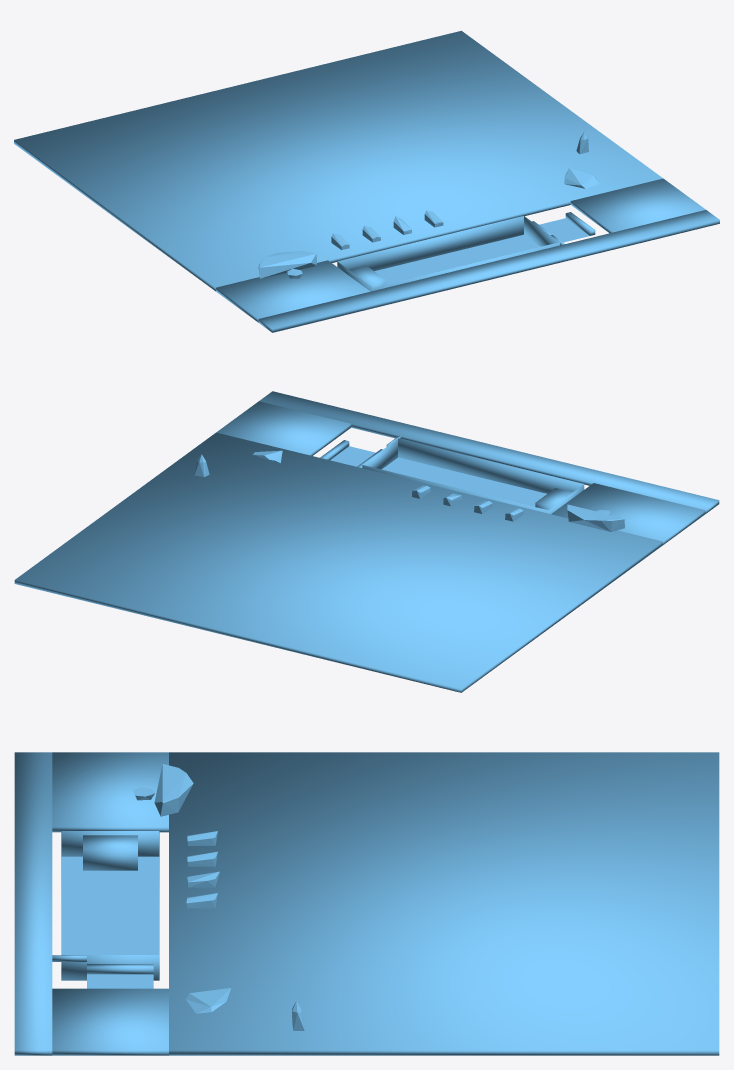
Rendered from Villa_Core_PHYS.dae.
3 renders of one model, top to bottom at view 1: azimuth 30°, elevation 25°; view 2: azimuth 150°, elevation 25°; view 3: azimuth 270°, elevation 25°, orthographic. The views are drawn at different scales.
Visible parts, largest first — view 1: Site_Deck_PHYS, Site_Pool_PHYS, Site_Lounge_Sofa_PHYS, Site_Spa_PHYS, Site_Daybed_PHYS; view 2: Site_Deck_PHYS, Site_Pool_PHYS, Site_Lounge_Sofa_PHYS, Site_Spa_PHYS; view 3: Site_Deck_PHYS, Site_Pool_PHYS, Site_Spa_PHYS, Site_Lounge_Sofa_PHYS, Site_Daybed_PHYS.
Part boxes in pixels (x1=…): Site_Deck_PHYS: x1=14, y1=30, x2=719, y2=332; Site_Pool_PHYS: x1=337, y1=216, x2=559, y2=291; Site_Lounge_Sofa_PHYS: x1=258, y1=251, x2=316, y2=278; Site_Spa_PHYS: x1=532, y1=212, x2=595, y2=242; Site_Daybed_PHYS: x1=564, y1=168, x2=599, y2=188; Site_Deck_PHYS: x1=14, y1=391, x2=719, y2=692; Site_Pool_PHYS: x1=362, y1=438, x2=584, y2=513; Site_Lounge_Sofa_PHYS: x1=566, y1=504, x2=624, y2=531; Site_Spa_PHYS: x1=320, y1=440, x2=382, y2=467; Site_Deck_PHYS: x1=14, y1=752, x2=719, y2=1055; Site_Pool_PHYS: x1=61, y1=831, x2=159, y2=980; Site_Spa_PHYS: x1=87, y1=964, x2=153, y2=988; Site_Lounge_Sofa_PHYS: x1=154, y1=764, x2=193, y2=816; Site_Daybed_PHYS: x1=186, y1=988, x2=230, y2=1013.
Size of the model in its own units: 36.06 by 36.06 by 4.61.
